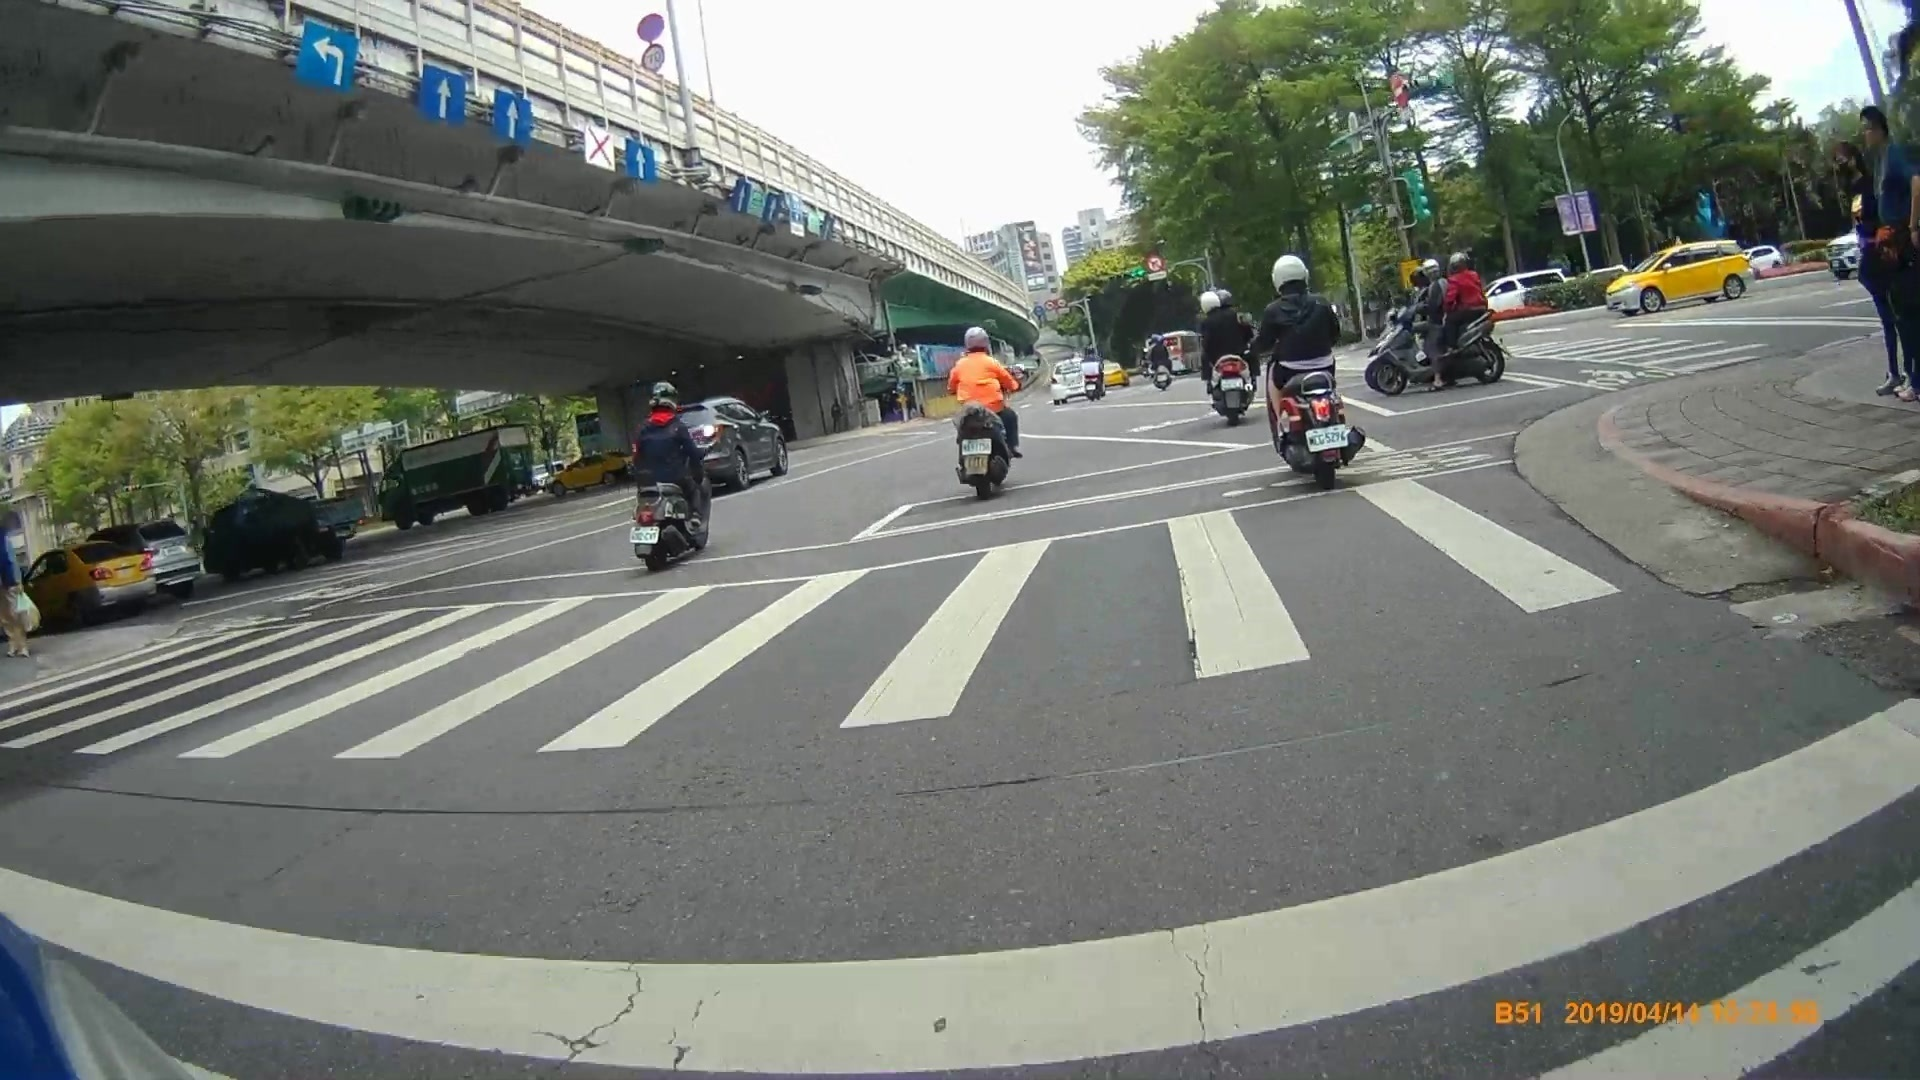License_plate: (958, 435, 994, 457), (629, 520, 662, 544), (1304, 428, 1348, 446)
